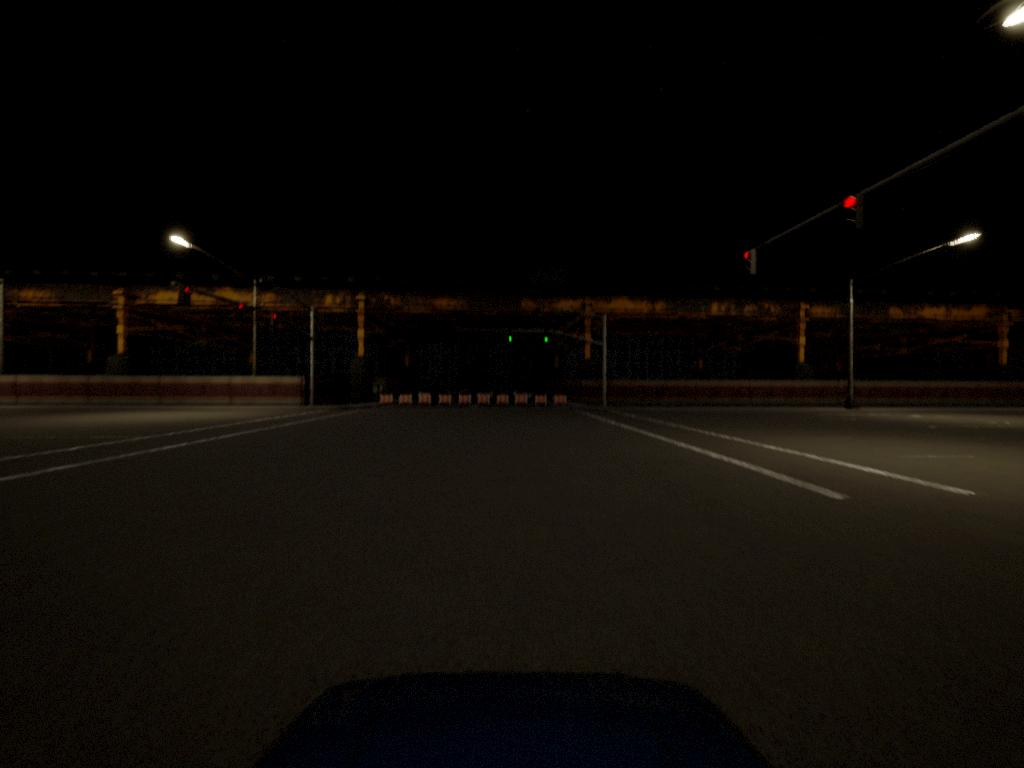traffic_light: (840, 195, 862, 230), (746, 252, 762, 279), (234, 305, 248, 325), (182, 287, 195, 306), (269, 312, 280, 332), (508, 332, 517, 348), (545, 333, 552, 350)
